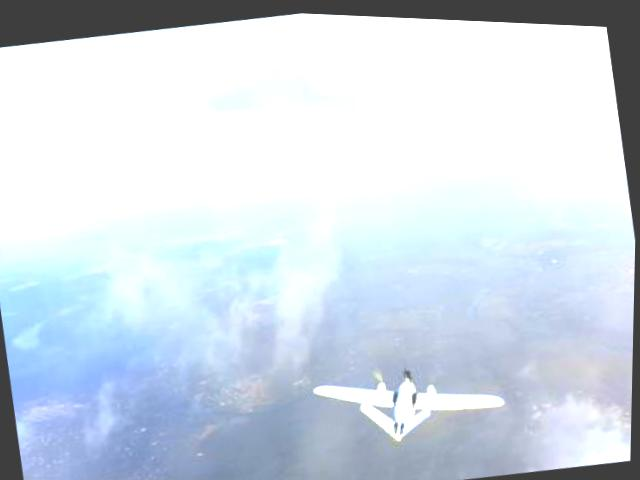uav: (306, 343, 520, 464)
